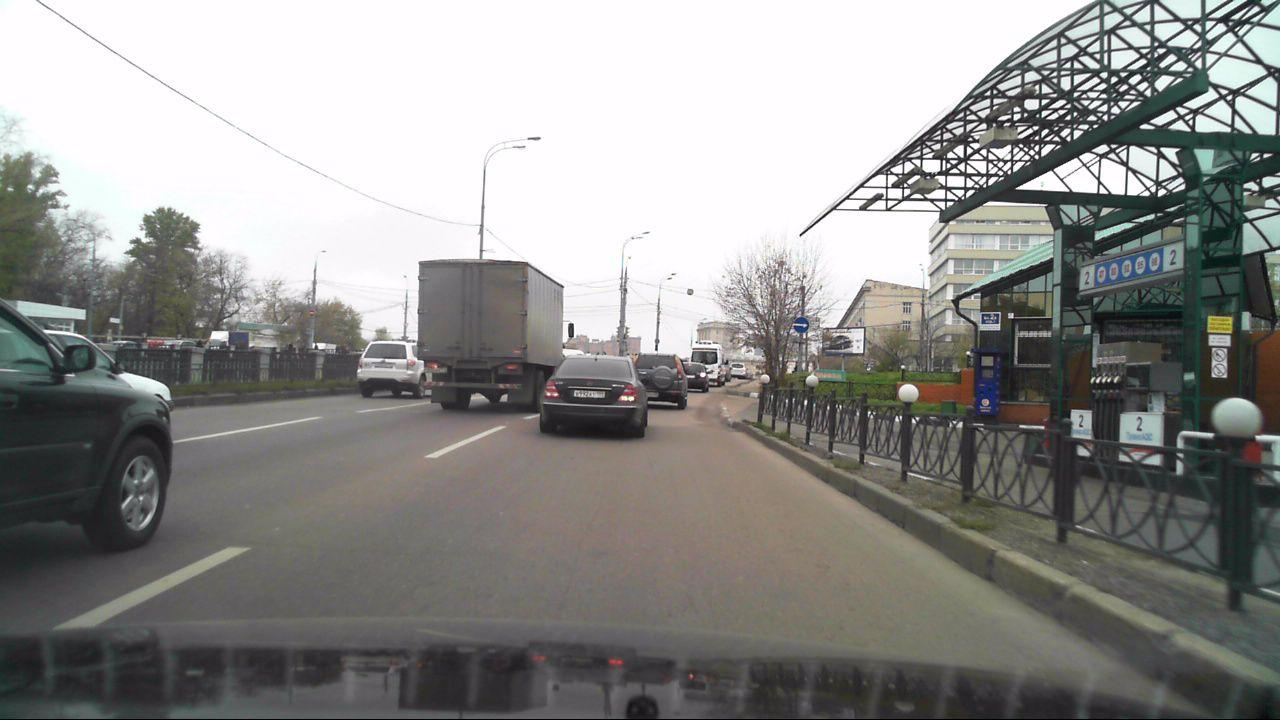road_sign: (793, 317, 810, 334)
